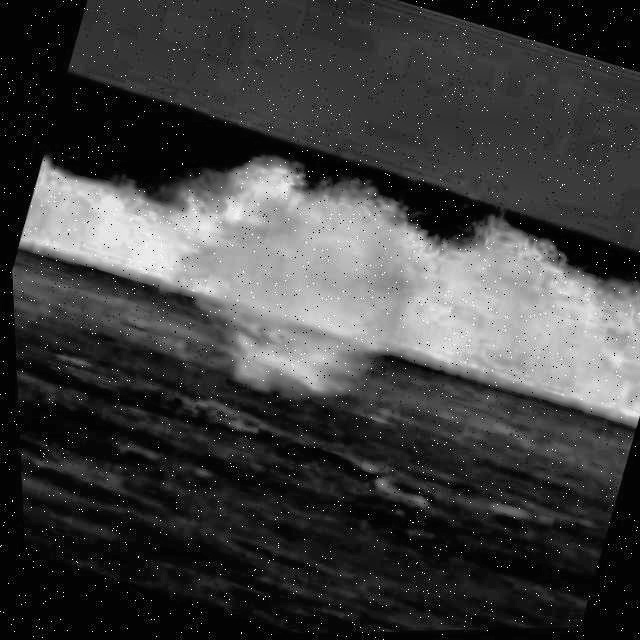Smoke: (118, 137, 455, 441)
